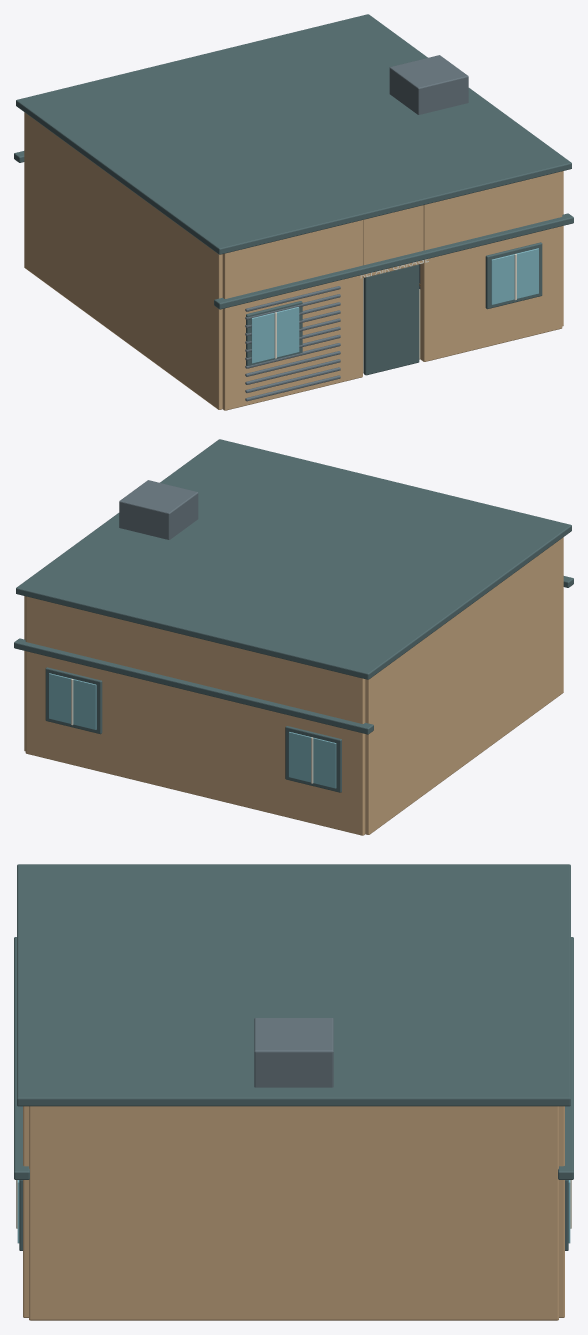
File: district-garage.glb
3 renders of one model, top to bottom at view 1: azimuth 30°, elevation 25°; view 2: azimuth 150°, elevation 25°; view 3: azimuth 270°, elevation 25°, orthographic. The views are drawn at different scales.
Parts seen in each view (by area): view 1: roof-trim, shell-wall, shell-steel, door leaf, shell-trim, shell-glass; view 2: shell-wall, roof-trim, shell-trim, shell-glass, shell-steel; view 3: roof-trim, shell-wall, shell-steel, shell-trim.
Boxes of the visible parts, <box> form: roof-trim: <box>16,14,571,254</box>; shell-wall: <box>24,112,563,410</box>; shell-steel: <box>245,55,468,401</box>; door leaf: <box>363,264,419,375</box>; shell-trim: <box>14,151,573,365</box>; shell-glass: <box>251,248,538,363</box>; shell-wall: <box>24,537,563,835</box>; roof-trim: <box>16,439,571,679</box>; shell-trim: <box>14,576,573,792</box>; shell-glass: <box>49,673,336,788</box>; shell-steel: <box>119,480,198,539</box>; roof-trim: <box>17,864,570,1106</box>; shell-wall: <box>23,1106,564,1320</box>; shell-steel: <box>254,1018,333,1087</box>; shell-trim: <box>14,937,573,1250</box>.
Size of the model in its own units: 10.5 by 5.46 by 10.56.
